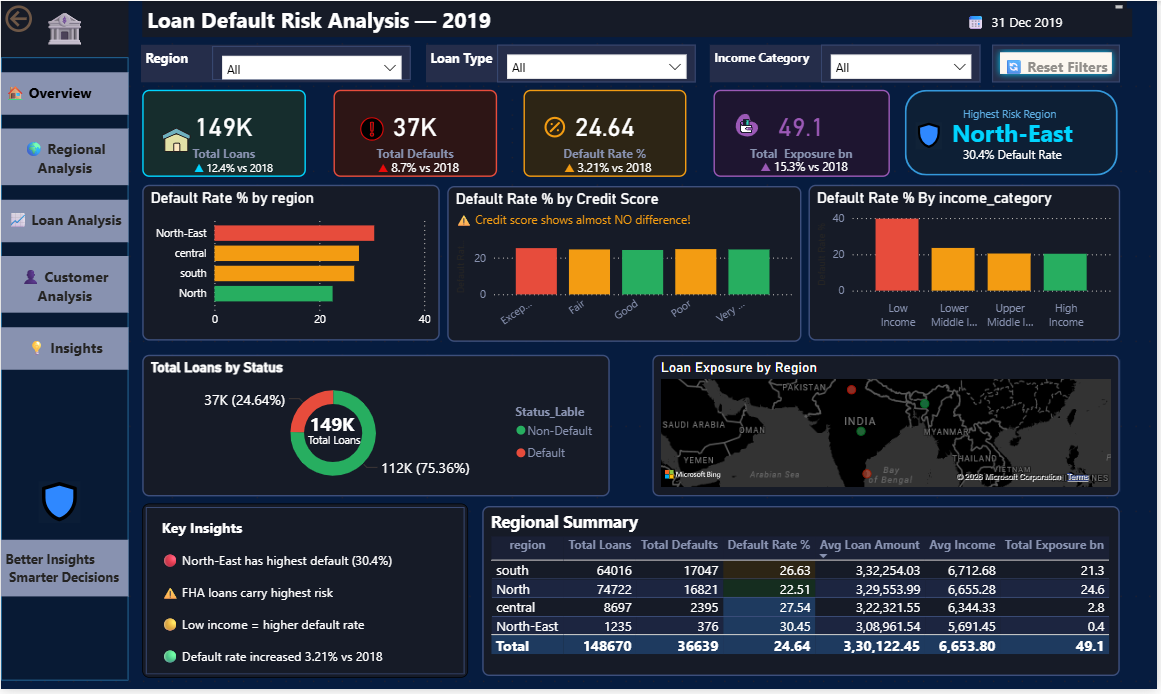

The page's visual inventory and layout, read from the dashboard file:
{"tool":"powerbi","page":{"name":"Executive Summary","canvas":[1305,777],"ordinal":0},"visuals":[{"type":"group","id":"g1","title":"Group 4","box":[160,100,210,128],"z":0,"group":"g4"},{"type":"card","fields":{"Values":["MeasuresTable.Total Loan Exposure"]},"box":[805,100,198.9,98],"z":0,"group":"g2"},{"type":"donutChart","title":"Total Loans by Status","fields":{"Y":["MeasuresTable.Total Loans"],"Category":["loan_default_cleaned.Status_Lable"]},"box":[160,400,528,160],"z":0,"group":"g12"},{"type":"shape","box":[160,567,368,197],"z":0,"group":"g11"},{"type":"tableEx","title":"Regional Summary","fields":{"Values":["loan_default_cleaned.region","MeasuresTable.Total Loans","MeasuresTable.Total Defaults","MeasuresTable.Default Rate %","MeasuresTable.Avg Loan Amount","MeasuresTable.Avg Income","MeasuresTable.Total  Exposure"]},"box":[544,571,720,192],"z":0},{"type":"textbox","box":[160,0,1112,41],"z":1000},{"type":"card","fields":{"Values":["MeasuresTable.Total Loans"]},"box":[160,100,184.7,98],"z":1000,"group":"g1"},{"type":"shape","box":[1020,100,240.4,97],"z":1000,"group":"g7"},{"type":"textbox","box":[1068.6,125,194.3,48],"z":1000,"group":"g13"},{"type":"image","box":[174.1,136,47.8,40],"z":1000,"group":"g4"},{"type":"textbox","box":[337,452,160,48],"z":1000,"group":"g12"},{"type":"textbox","box":[176.7,560,351.3,208],"z":1000,"group":"g11"},{"type":"textbox","box":[0,0,144,64],"z":2000},{"type":"textbox","box":[480,50,304,42],"z":2000,"group":"g9"},{"type":"card","fields":{"Values":["MeasuresTable.Total Defaults"]},"box":[375,100,184.7,98],"z":2000,"group":"g5"},{"type":"textbox","box":[1080.7,159,194.3,32],"z":2000,"group":"g13"},{"type":"textbox","box":[852.5,172,161.5,48],"z":2000,"group":"g2"},{"type":"textbox","box":[342,482,202.8,54.9],"z":2000,"group":"g12"},{"type":"textbox","box":[1085,8,192,32],"z":3000},{"type":"card","fields":{"Values":["MeasuresTable.Default Rate %"]},"box":[590,100,184.3,98],"z":3000,"group":"g6"},{"type":"textbox","box":[1082,112,174.9,32],"z":3000,"group":"g13"},{"type":"shape","box":[0,64,144,704],"z":4000},{"type":"image","box":[1022.4,137,48.6,30],"z":4000,"group":"g7"},{"type":"textbox","box":[0,80,144,48],"z":5000},{"type":"textbox","box":[213.4,174,165.7,49.5],"z":5000,"group":"g1"},{"type":"textbox","box":[0,144,144,64],"z":6000},{"type":"textbox","box":[420,174,165,32],"z":6000,"group":"g5"},{"type":"textbox","box":[631.1,174,168.9,42],"z":7000,"group":"g6"},{"type":"textbox","box":[0,224,144,48],"z":7000},{"type":"textbox","box":[0,288,144,64],"z":8000},{"type":"textbox","box":[0,368,144,48],"z":9000},{"type":"textbox","box":[0,608,144,64],"z":10000},{"type":"actionButton","box":[1120,50,144,42],"z":11000},{"type":"group","id":"g2","title":"Group 5","box":[805,100,210,128],"z":12000},{"type":"clusteredBarChart","fields":{"Category":["loan_default_cleaned.region"],"Y":["MeasuresTable.Default Rate %"]},"box":[160,208,336,176],"z":13000},{"type":"clusteredColumnChart","title":"Default Rate % by Credit Score","fields":{"Category":["loan_default_cleaned.credit_score_category"],"Y":["MeasuresTable.Default Rate %"]},"box":[504,209,400,176],"z":14000},{"type":"image","box":[811.1,124,64.6,32],"z":14011,"group":"g2"},{"type":"group","id":"g3","title":"Group 2","box":[160,400,528,160],"z":15000},{"type":"clusteredColumnChart","title":"Default Rate % By income_category","fields":{"Category":["loan_default_cleaned.income_category"],"Y":["MeasuresTable.Default Rate %"]},"box":[912,208,352,176],"z":16000},{"type":"image","box":[610.2,128,30.7,28],"z":17000,"group":"g6"},{"type":"map","title":"Loan Exposure by Region ","fields":{"X":["loan_default_cleaned (2).longitude"],"Y":["loan_default_cleaned (2).latitude"],"Size":["MeasuresTable.Total  Exposure"]},"box":[736,400,528,160],"z":17000},{"type":"actionButton","box":[0,0,100,40],"z":18000},{"type":"image","box":[403.1,128,30,32],"z":18000,"group":"g5"},{"type":"group","id":"g4","title":"Group 6","box":[160,100,210,128],"z":19000},{"type":"group","id":"g5","title":"Group 7","box":[375,100,210,106],"z":20000},{"type":"group","id":"g6","title":"Group 8","box":[590,100,210,116],"z":21000},{"type":"textbox","box":[158,50,304,42],"z":22000,"group":"g8"},{"type":"group","id":"g7","title":"Group 1","box":[1020,100,255,97],"z":22000},{"type":"group","id":"g8","title":"Group 10","box":[158,50,304,42],"z":23000},{"type":"slicer","fields":{"Values":["loan_default_cleaned.region"]},"box":[238,51,224,38],"z":23000,"group":"g8"},{"type":"group","id":"g9","title":"Group 11","box":[480,50,304,42],"z":24000},{"type":"slicer","fields":{"Values":["loan_default_cleaned.loan_type"]},"box":[560,50,224,42],"z":24000,"group":"g9"},{"type":"group","id":"g10","title":"Group 12","box":[800,50,305,42],"z":25000},{"type":"textbox","box":[800,50,304,42],"z":26000,"group":"g10"},{"type":"group","id":"g11","title":"Group 3","box":[160,560,368,208],"z":26000},{"type":"group","id":"g12","title":"Group 13","box":[160,400,528,160],"z":26002,"group":"g3"},{"type":"slicer","fields":{"Values":["loan_default_cleaned.income_category"]},"box":[925,50,180,42],"z":27000,"group":"g10"},{"type":"image","box":[43,541,47,50],"z":27000},{"type":"group","id":"g13","title":"Group 9","box":[1068.6,112,206.4,79],"z":31000,"group":"g7"}]}

Visuals, with their boxes on the page's 1305x777 design canvas (x1, y1, x2, y2). These are canvas units, not pixel positions in the 1161x694 screenshot, which may show the page scaled, cropped or inside an application window:
"Group 4" group: box=[160, 100, 370, 228]
card - MeasuresTable.Total Loan Exposure: box=[805, 100, 1004, 198]
"Total Loans by Status" donutChart: box=[160, 400, 688, 560]
shape: box=[160, 567, 528, 764]
"Regional Summary" tableEx: box=[544, 571, 1264, 763]
textbox: box=[160, 0, 1272, 41]
card - MeasuresTable.Total Loans: box=[160, 100, 345, 198]
shape: box=[1020, 100, 1260, 197]
textbox: box=[1069, 125, 1263, 173]
image: box=[174, 136, 222, 176]
textbox: box=[337, 452, 497, 500]
textbox: box=[177, 560, 528, 768]
textbox: box=[0, 0, 144, 64]
textbox: box=[480, 50, 784, 92]
card - MeasuresTable.Total Defaults: box=[375, 100, 560, 198]
textbox: box=[1081, 159, 1275, 191]
textbox: box=[852, 172, 1014, 220]
textbox: box=[342, 482, 545, 537]
textbox: box=[1085, 8, 1277, 40]
card - MeasuresTable.Default Rate %: box=[590, 100, 774, 198]
textbox: box=[1082, 112, 1257, 144]
shape: box=[0, 64, 144, 768]
image: box=[1022, 137, 1071, 167]
textbox: box=[0, 80, 144, 128]
textbox: box=[213, 174, 379, 224]
textbox: box=[0, 144, 144, 208]
textbox: box=[420, 174, 585, 206]
textbox: box=[631, 174, 800, 216]
textbox: box=[0, 224, 144, 272]
textbox: box=[0, 288, 144, 352]
textbox: box=[0, 368, 144, 416]
textbox: box=[0, 608, 144, 672]
actionButton: box=[1120, 50, 1264, 92]
"Group 5" group: box=[805, 100, 1015, 228]
clusteredBarChart - loan_default_cleaned.region x MeasuresTable.Default Rate %: box=[160, 208, 496, 384]
"Default Rate % by Credit Score" clusteredColumnChart: box=[504, 209, 904, 385]
image: box=[811, 124, 876, 156]
"Group 2" group: box=[160, 400, 688, 560]
"Default Rate % By income_category" clusteredColumnChart: box=[912, 208, 1264, 384]
image: box=[610, 128, 641, 156]
"Loan Exposure by Region " map: box=[736, 400, 1264, 560]
actionButton: box=[0, 0, 100, 40]
image: box=[403, 128, 433, 160]
"Group 6" group: box=[160, 100, 370, 228]
"Group 7" group: box=[375, 100, 585, 206]
"Group 8" group: box=[590, 100, 800, 216]
textbox: box=[158, 50, 462, 92]
"Group 1" group: box=[1020, 100, 1275, 197]
"Group 10" group: box=[158, 50, 462, 92]
slicer - loan_default_cleaned.region: box=[238, 51, 462, 89]
"Group 11" group: box=[480, 50, 784, 92]
slicer - loan_default_cleaned.loan_type: box=[560, 50, 784, 92]
"Group 12" group: box=[800, 50, 1105, 92]
textbox: box=[800, 50, 1104, 92]
"Group 3" group: box=[160, 560, 528, 768]
"Group 13" group: box=[160, 400, 688, 560]
slicer - loan_default_cleaned.income_category: box=[925, 50, 1105, 92]
image: box=[43, 541, 90, 591]
"Group 9" group: box=[1069, 112, 1275, 191]
